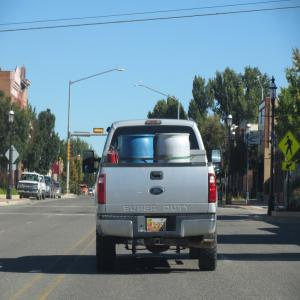Vehicle-registration-plate: (147, 218, 169, 234)
